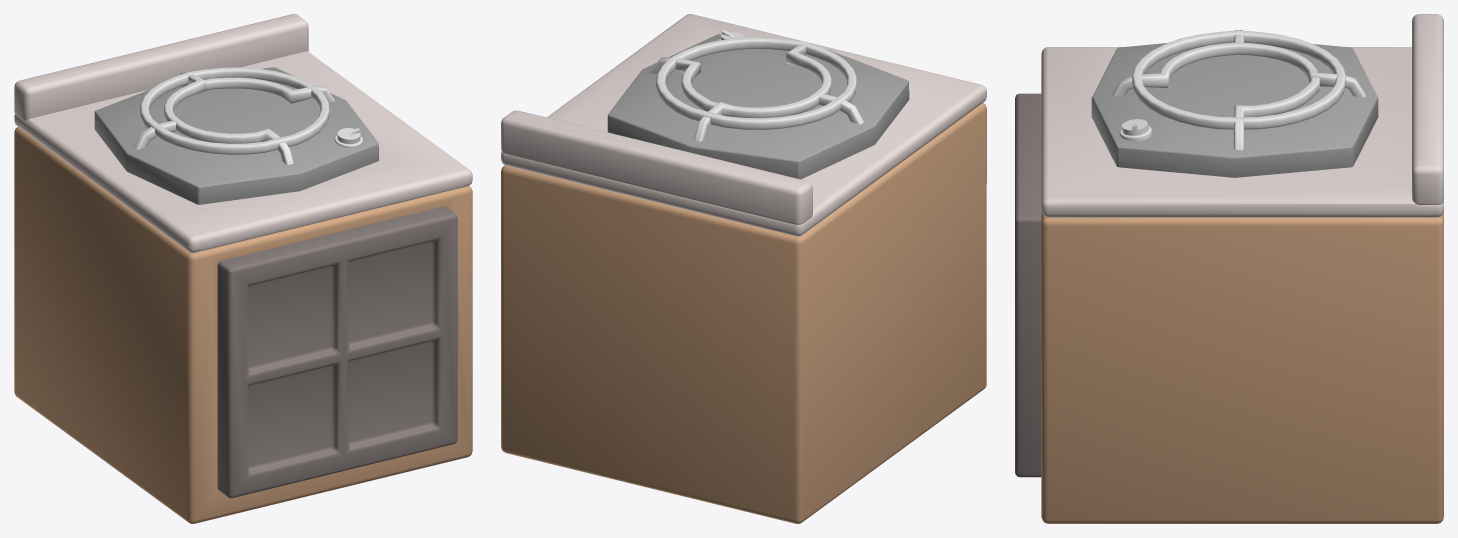
File: ocak.fbx
3 views of the same model, side by side, from view 1: azimuth 30°, elevation 25°; view 2: azimuth 150°, elevation 25°; view 3: azimuth 270°, elevation 25° (orthographic). The views are drawn at different scales.
Visible parts, largest first — view 1: Cube.118, Cube.010, Cube.011, Cube.120, Circle.002; view 2: Cube.118, Cube.011, Cube.120, Circle.002; view 3: Cube.118, Cube.011, Cube.120, Circle.002, Cube.010, Cylinder.018.
Part boxes in pixels (x1,y1,x2,y2): Cube.118: (14,127,472,523); Cube.010: (217,206,457,498); Cube.011: (14,14,472,252); Cube.120: (94,67,378,204); Circle.002: (133,67,334,164); Cube.118: (501,103,986,523); Cube.011: (501,14,986,236); Cube.120: (607,34,909,179); Circle.002: (650,37,863,141); Cube.118: (1041,211,1443,523); Cube.011: (1041,14,1443,217); Cube.120: (1091,43,1378,177); Circle.002: (1112,30,1365,150); Cube.010: (1015,93,1041,477); Cylinder.018: (1119,119,1151,140).
Size of the model in its own units: 323 by 354 by 373.
